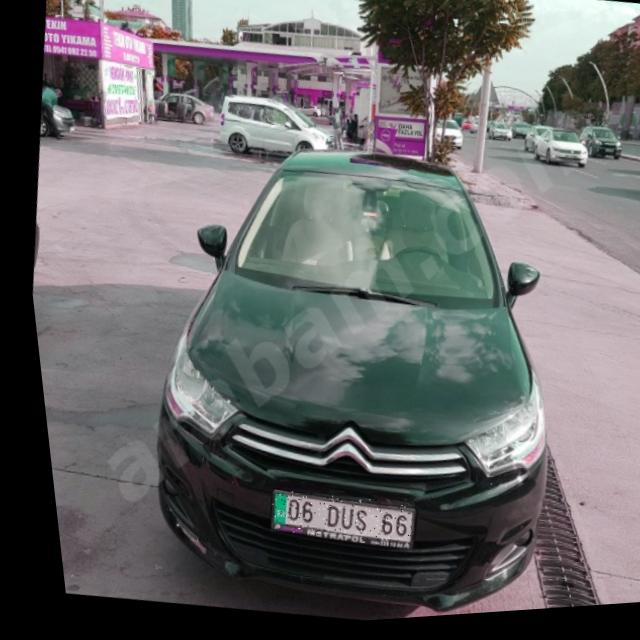license_plate: (255, 486, 406, 555)
